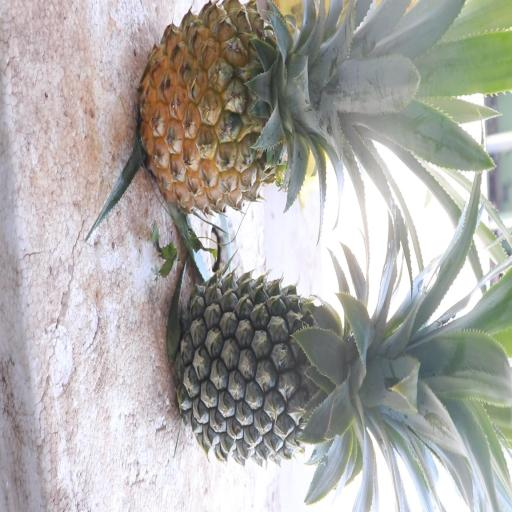Pineapple - v8 v1: (140, 0, 429, 212)
